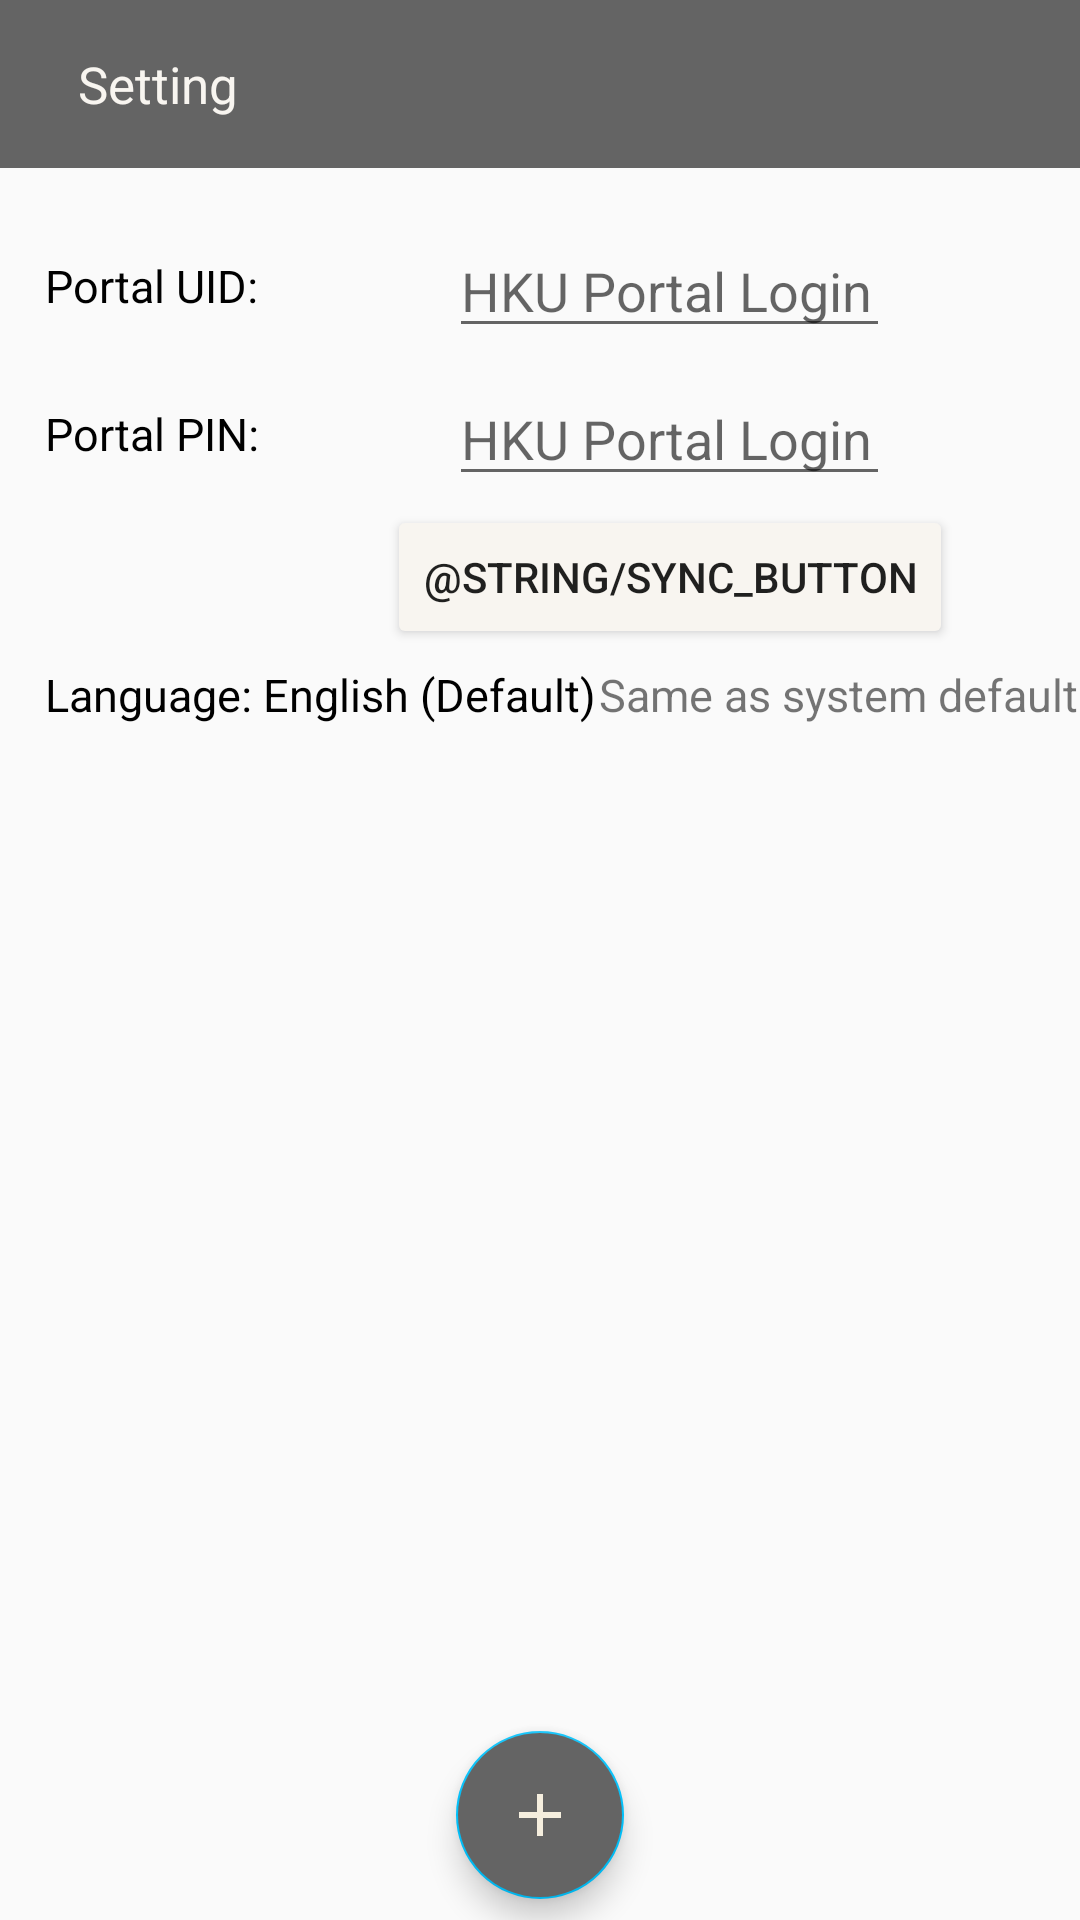

Where icons sit on this 1080px x 1920px app screen, as rect(x1, y1, x2, y2):
add: rect(456, 1731, 624, 1899)
